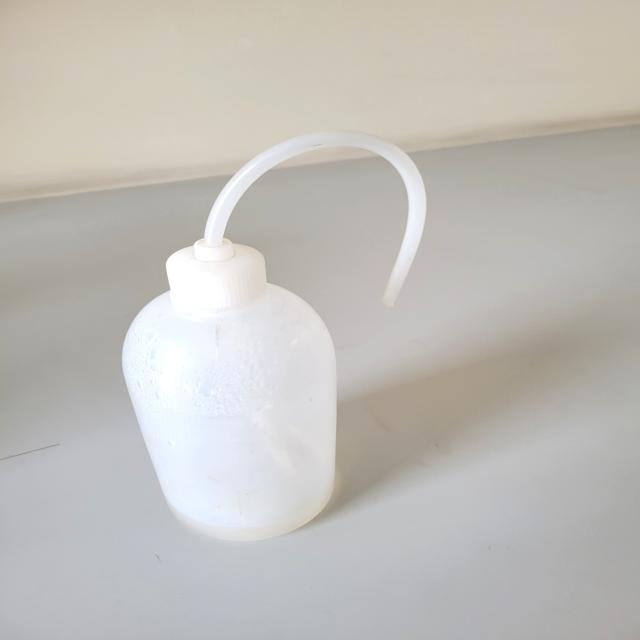Wash_Bottle: (93, 120, 439, 561)
